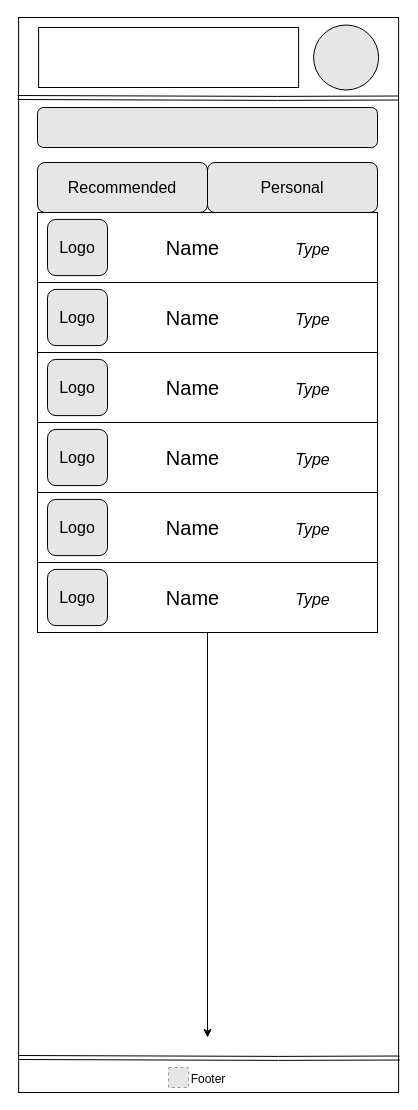
The diagram is 418 pixels wide and 1110 high, and some of its shapes have lost their labels. Grey dashed boxes stand in for pictures. The box of each missing label's shape, as (x1, y1, x2, y2) in pixels:
Avatar: (313, 24, 379, 90)
Logo and Company Name: (38, 26, 299, 88)
Search up restaurants: (36, 106, 378, 148)
